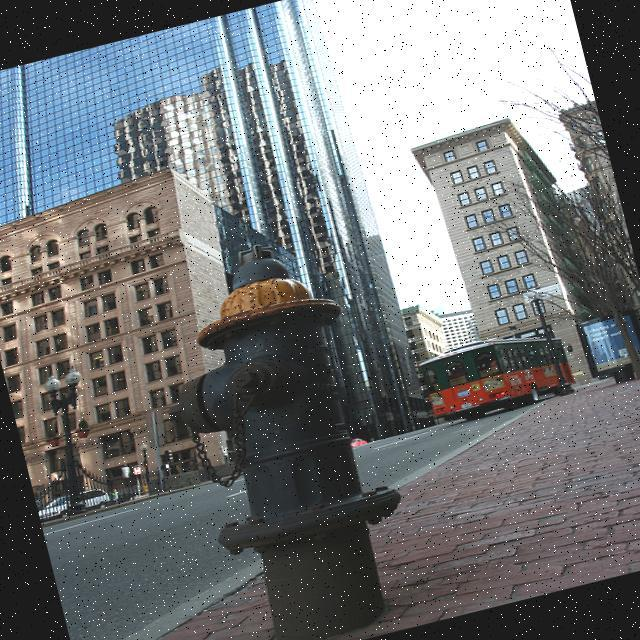fire_hydrant: (129, 221, 418, 640)
